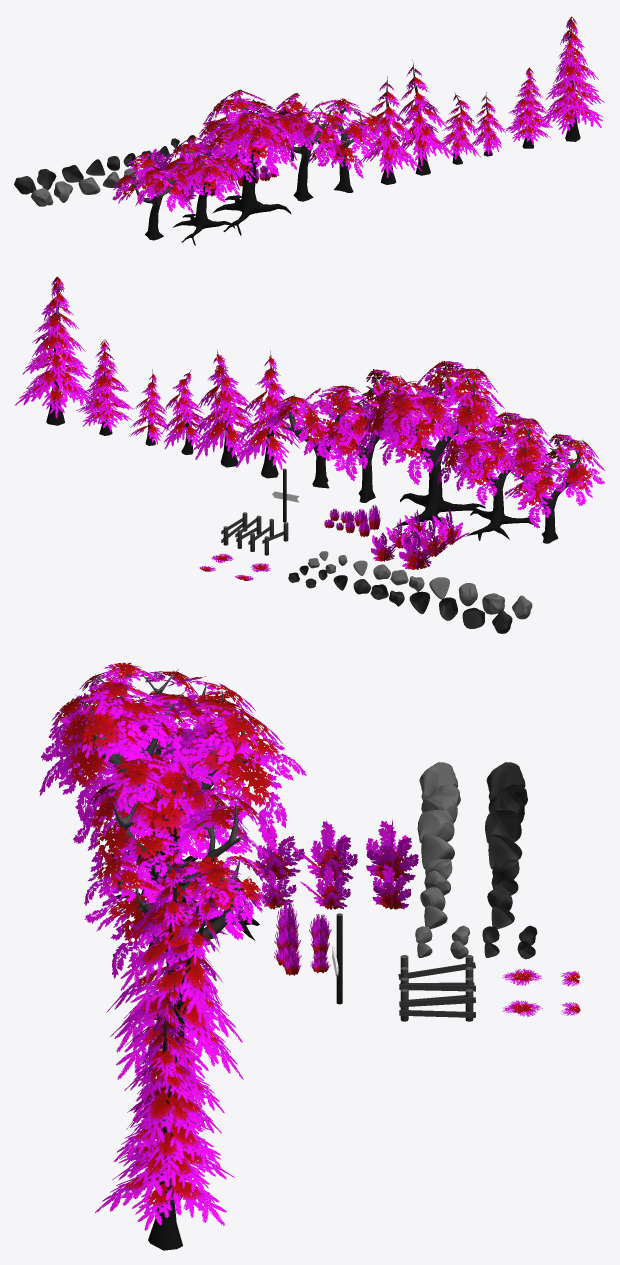
File: Forest_environment.FBX
The picture shows the model from 3 angles, top to bottom: view 1: azimuth 30°, elevation 25°; view 2: azimuth 150°, elevation 25°; view 3: azimuth 270°, elevation 25°; orthographic projection. The views are drawn at different scales.
Parts seen in each view (by area): view 1: Tree_02, Tree_04, Pine_06, Tree_01, Tree_03, Tree_05, Pine_02, Pine_05, Pine_01, Pine_04, Pine_03; view 2: Tree_02, Tree_04, Tree_01, Pine_06, Tree_05, Tree_03, Pine_02, Pine_05, Pine_01, Pine_04, Pine_03, Bush_05 (+2 smaller); view 3: Tree_02, Pine_06, Tree_05, Tree_03, Pine_02, Pine_05, Tree_01, Tree_04, Pine_04, Bush_05, Bush_04, Bush_06 (+11 smaller).
Boxes of the visible parts, left/top/right/bottom form: Tree_02: left=197, top=89, right=317, bottom=235; Tree_04: left=162, top=136, right=255, bottom=245; Pine_06: left=542, top=16, right=604, bottom=141; Tree_01: left=112, top=151, right=194, bottom=240; Tree_03: left=293, top=98, right=384, bottom=192; Tree_05: left=262, top=93, right=348, bottom=201; Pine_02: left=398, top=60, right=456, bottom=175; Pine_05: left=361, top=76, right=422, bottom=184; Pine_01: left=504, top=67, right=552, bottom=148; Pine_04: left=438, top=92, right=480, bottom=164; Pine_03: left=471, top=92, right=505, bottom=156; Tree_02: left=357, top=361, right=504, bottom=533; Tree_04: left=435, top=412, right=552, bottom=540; Tree_01: left=504, top=434, right=604, bottom=543; Pine_06: left=15, top=276, right=94, bottom=425; Tree_05: left=320, top=369, right=421, bottom=502; Tree_03: left=264, top=385, right=366, bottom=488; Pine_02: left=191, top=350, right=256, bottom=467; Pine_05: left=233, top=351, right=299, bottom=478; Pine_01: left=76, top=339, right=133, bottom=435; Pine_04: left=161, top=369, right=209, bottom=454; Pine_03: left=129, top=369, right=169, bottom=445; Bush_05: left=399, top=529, right=433, bottom=569; Tree_02: left=39, top=682, right=306, bottom=948; Pine_06: left=95, top=994, right=234, bottom=1250; Tree_05: left=73, top=770, right=269, bottom=937; Tree_03: left=84, top=855, right=279, bottom=1019; Pine_02: left=110, top=888, right=243, bottom=1101; Pine_05: left=107, top=852, right=242, bottom=1061; Tree_01: left=66, top=662, right=255, bottom=782; Tree_04: left=54, top=699, right=265, bottom=897; Pine_04: left=124, top=981, right=224, bottom=1120; Bush_05: left=366, top=820, right=418, bottom=882; Bush_04: left=292, top=821, right=357, bottom=882; Bush_06: left=243, top=828, right=304, bottom=880.
Size of the model in its own units: 1073 by 269 by 505.
